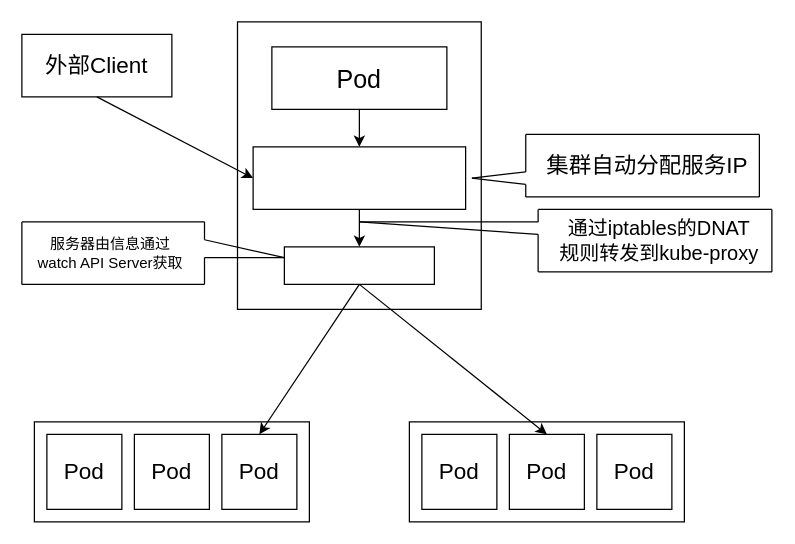
Image size: 795x544. Some labels were removed from this diagram. Each missing label, with the box of its shape:
Cluster IP:Port: (252, 146, 466, 209)
kube-proxy: (283, 246, 434, 284)
